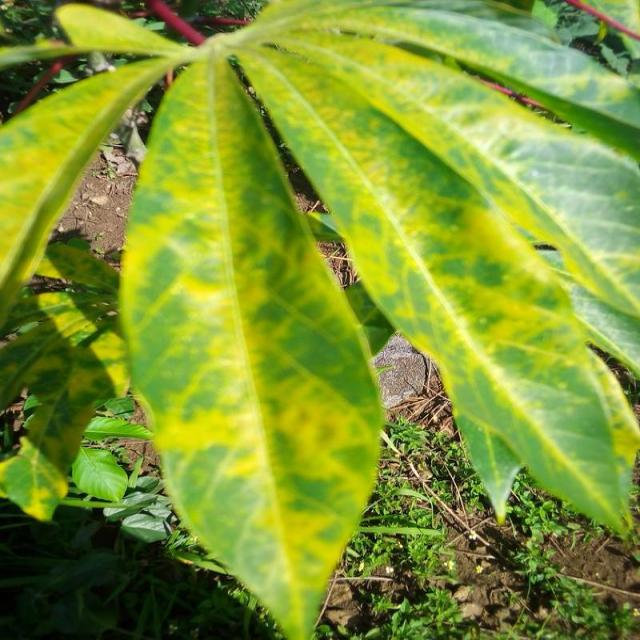cassava leaf: (229, 1, 640, 540), (118, 40, 388, 638)
